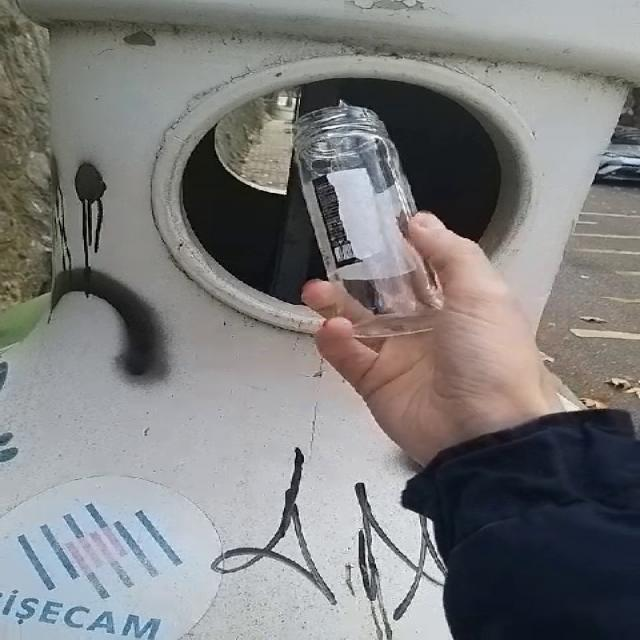glass: (295, 102, 444, 347)
